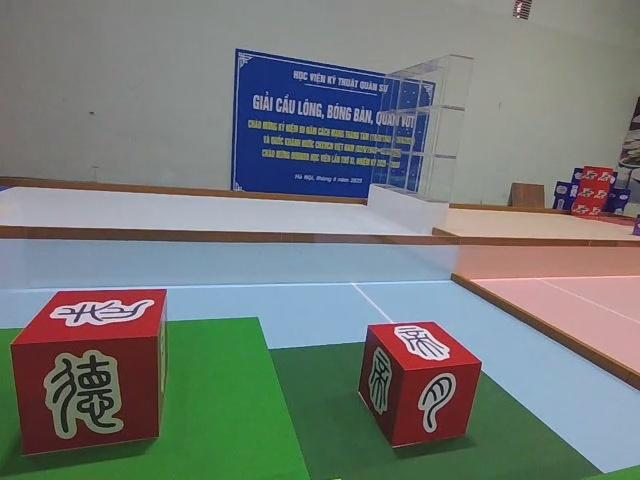R2 Fake: (9, 285, 172, 459), (355, 319, 485, 450)
